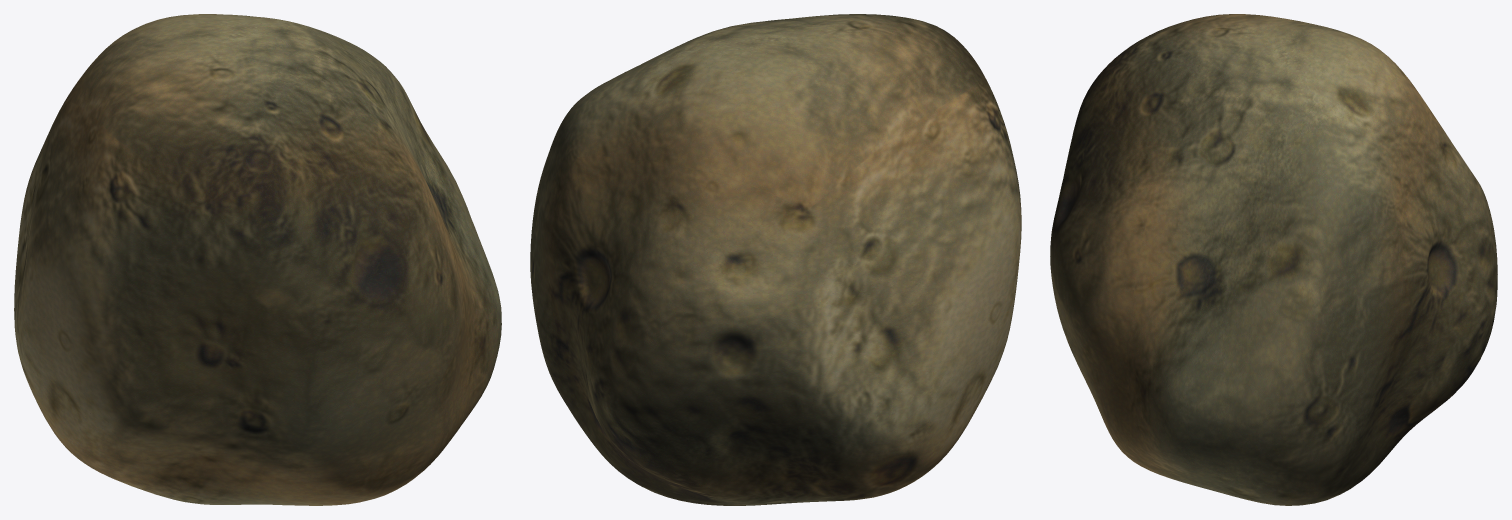
Rendered from asteroid4.gltf.
3 views of the same model, side by side, from view 1: azimuth 30°, elevation 25°; view 2: azimuth 150°, elevation 25°; view 3: azimuth 270°, elevation 25° (orthographic). The views are drawn at different scales.
Visible parts, largest first — view 1: 10464_Asteroid_v1_Iterations-2.001; view 2: 10464_Asteroid_v1_Iterations-2.001; view 3: 10464_Asteroid_v1_Iterations-2.001.
Part boxes in pixels (x1,y1,x2,y2): 10464_Asteroid_v1_Iterations-2.001: (14, 14, 501, 505); 10464_Asteroid_v1_Iterations-2.001: (530, 14, 1021, 505); 10464_Asteroid_v1_Iterations-2.001: (1050, 14, 1497, 505).
Bounding box in the file's own units: 2.77 × 2.8 × 2.79.
Materials: 1 (1 with a texture image).
